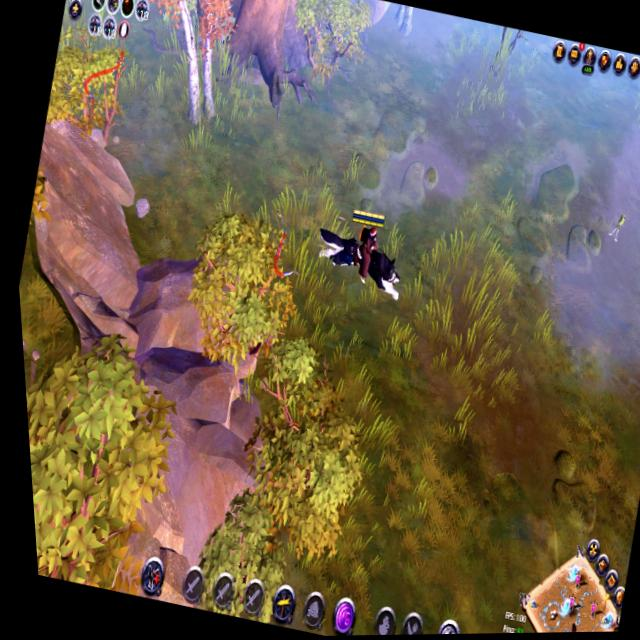red: (298, 195, 426, 323)
wisp caged: (82, 0, 255, 137)
